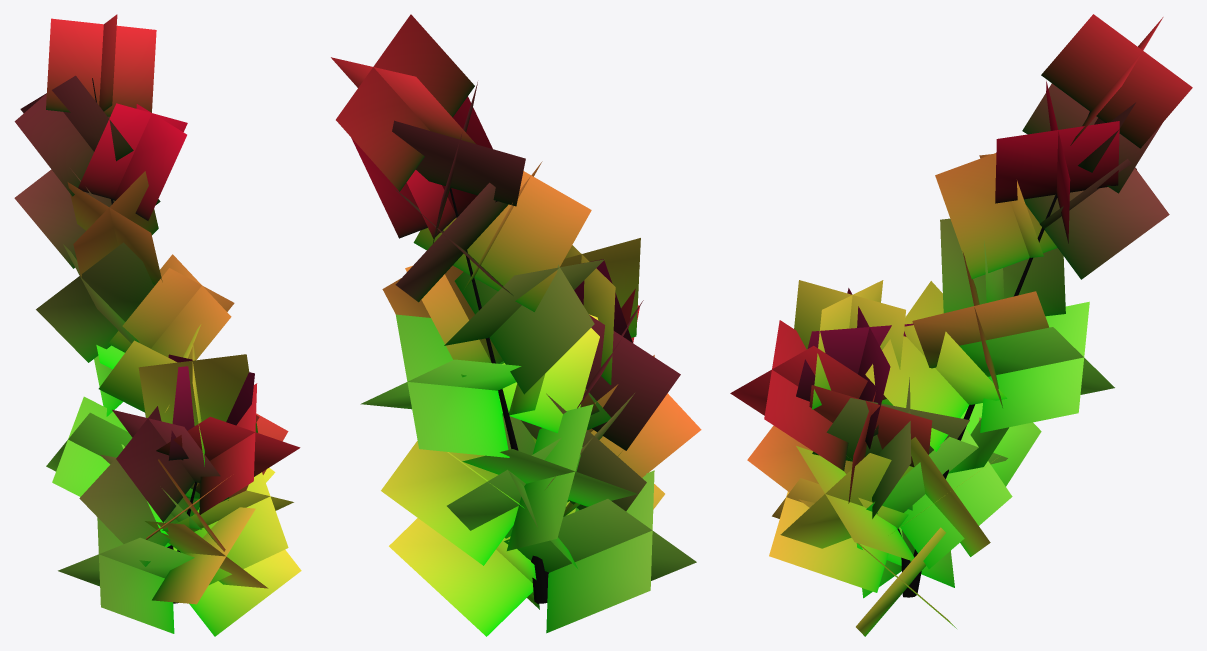
The model's file is Tree_19.fbx.
3 renders of one model, left to right at view 1: azimuth 30°, elevation 25°; view 2: azimuth 150°, elevation 25°; view 3: azimuth 270°, elevation 25°, orthographic. The views are drawn at different scales.
Parts seen in each view (by area): view 1: Tree_19; view 2: Tree_19; view 3: Tree_19.
Part boxes in pixels (x1,y1,x2,y2): Tree_19: [14, 14, 301, 636]; Tree_19: [331, 14, 701, 636]; Tree_19: [730, 14, 1192, 636].
Bounding box in the file's own units: 442 × 1116 × 750.
